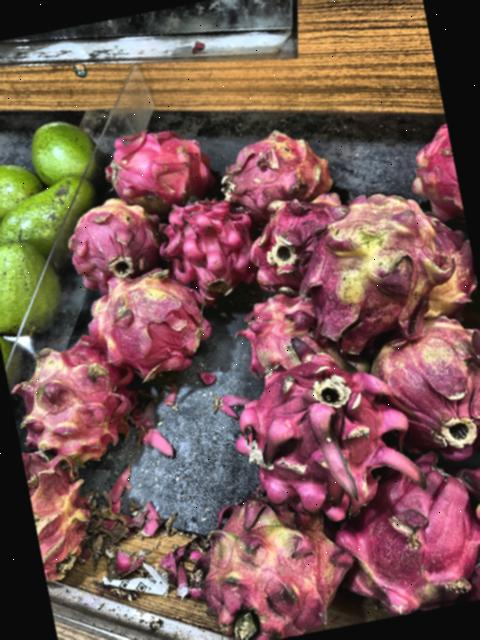buah-naga-belum-matang: (176, 479, 356, 640), (296, 187, 444, 348), (2, 332, 133, 463), (368, 317, 480, 458), (83, 270, 211, 382), (212, 121, 338, 218), (20, 437, 96, 583), (227, 282, 334, 378), (66, 193, 166, 290), (418, 207, 480, 316)
buah-naga-matang: (214, 338, 408, 519), (330, 434, 480, 616), (104, 118, 221, 218), (154, 186, 255, 296), (238, 195, 340, 288), (410, 130, 463, 218), (453, 428, 480, 568)
